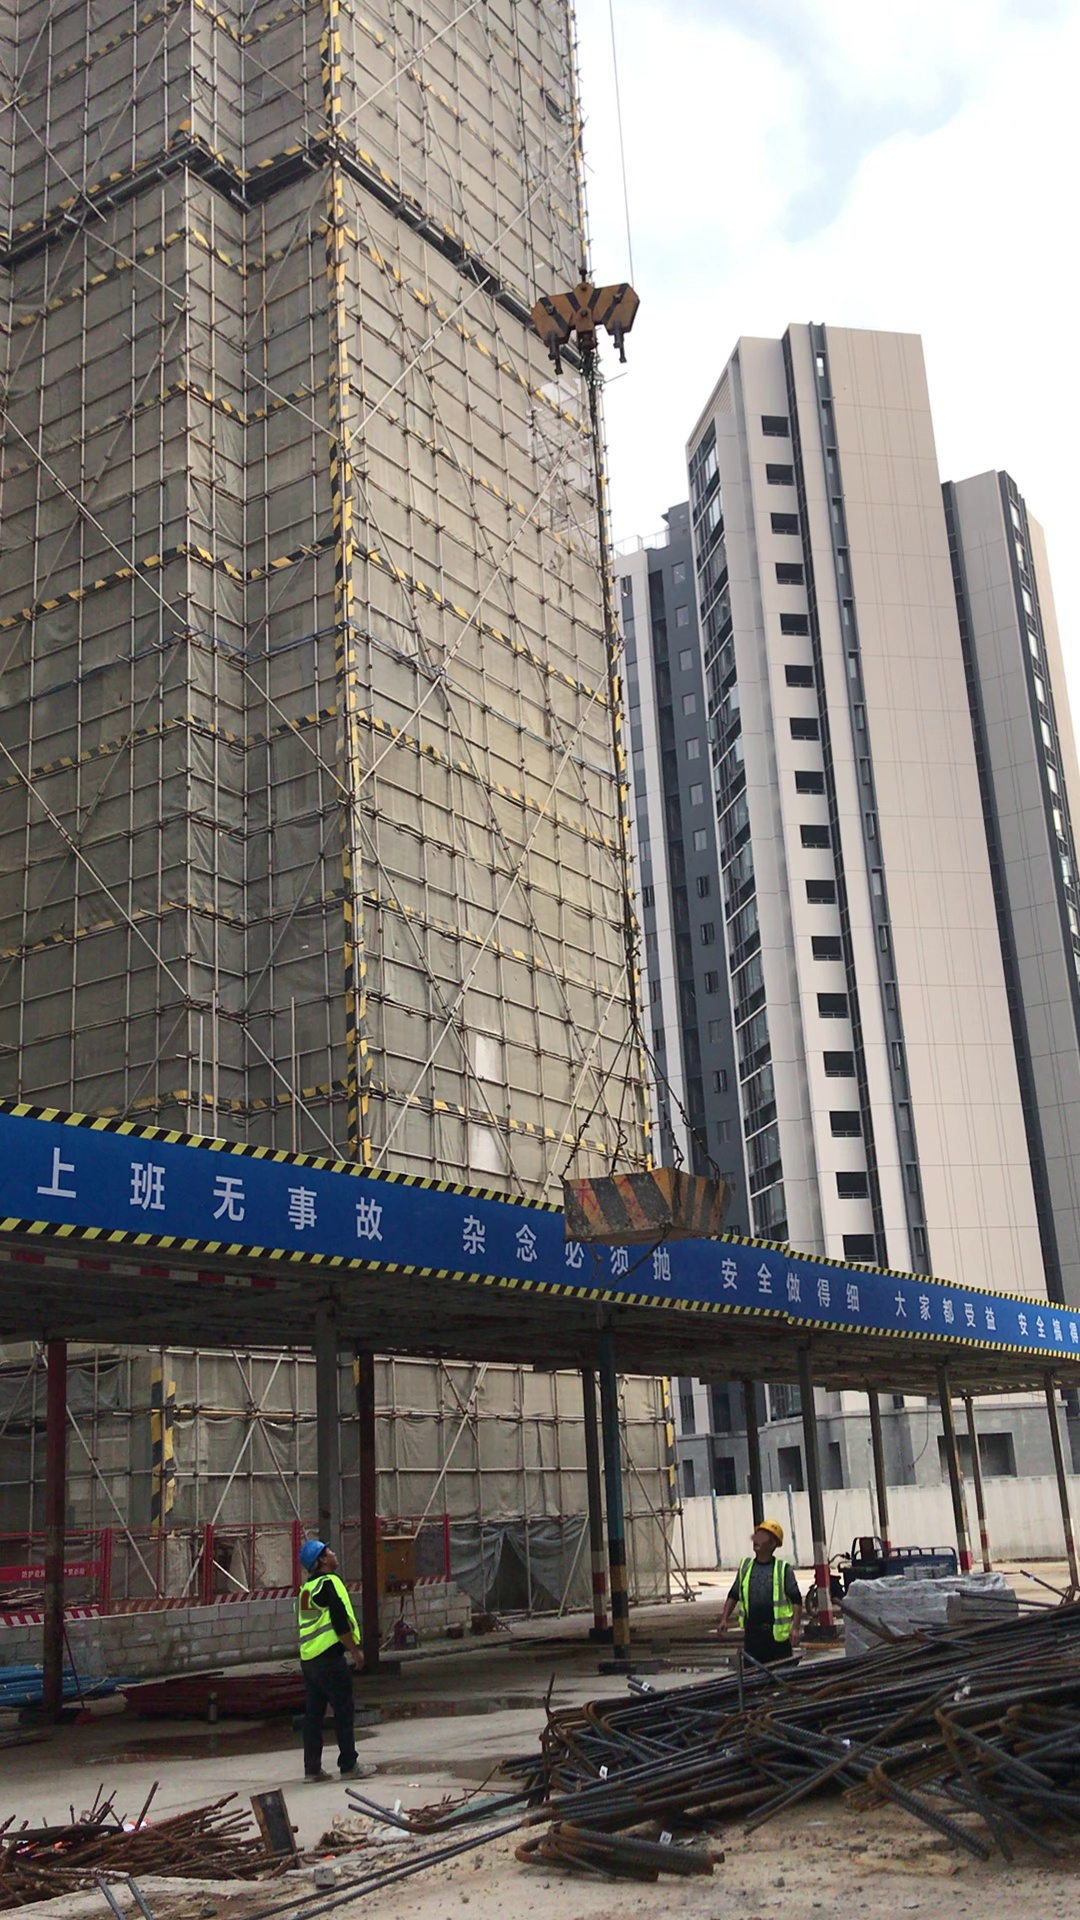ebox: (379, 1529, 428, 1648)
fence: (1, 1513, 448, 1630)
helmet: (298, 1536, 326, 1570), (759, 1518, 789, 1545)
hook: (526, 261, 643, 376)
hopper: (568, 1163, 739, 1245)
person: (273, 1514, 410, 1804), (715, 1513, 810, 1662)
slogan: (14, 1105, 1076, 1349)
vest: (732, 1553, 804, 1640), (292, 1576, 361, 1656)
